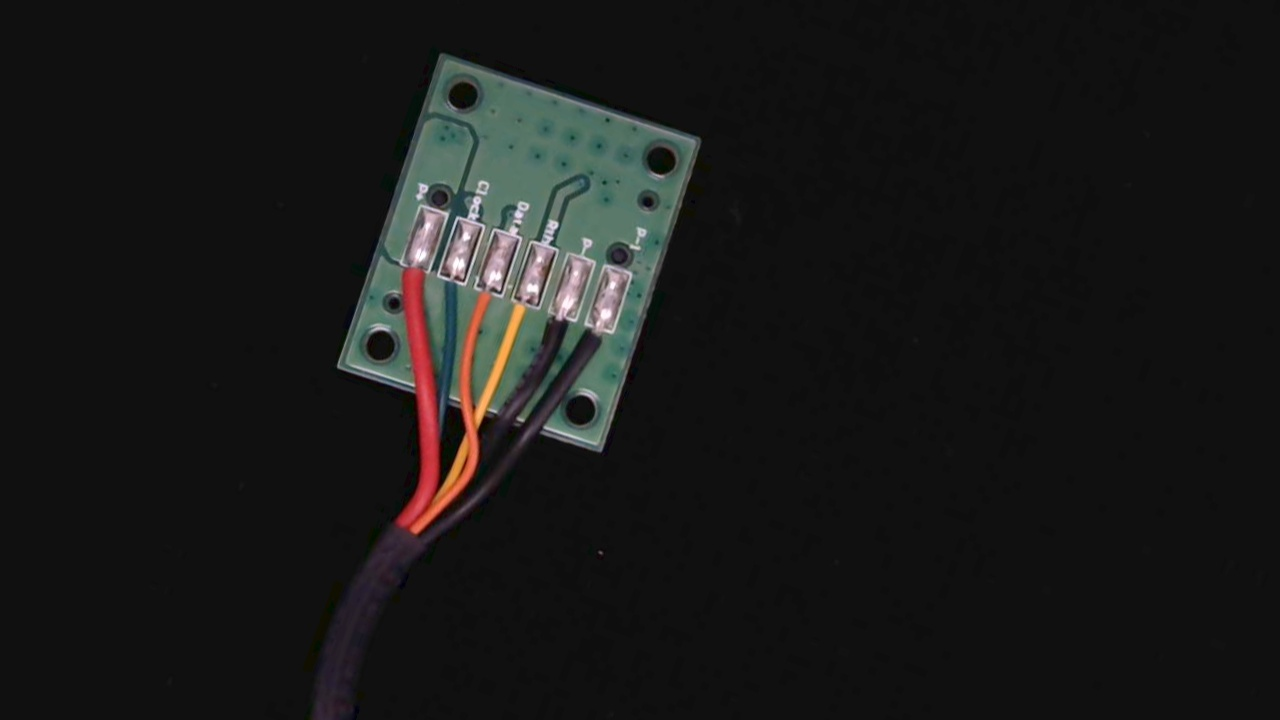Black: (531, 294, 580, 365)
Black1: (570, 307, 618, 373)
Green: (420, 255, 469, 326)
Orange: (457, 268, 504, 337)
Red: (381, 244, 437, 322)
Yellow: (494, 281, 545, 351)
